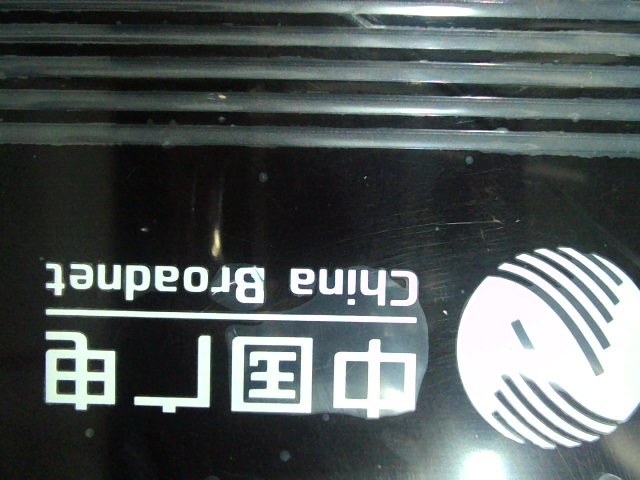AW_ChinaBroadNet: (32, 240, 635, 452)
